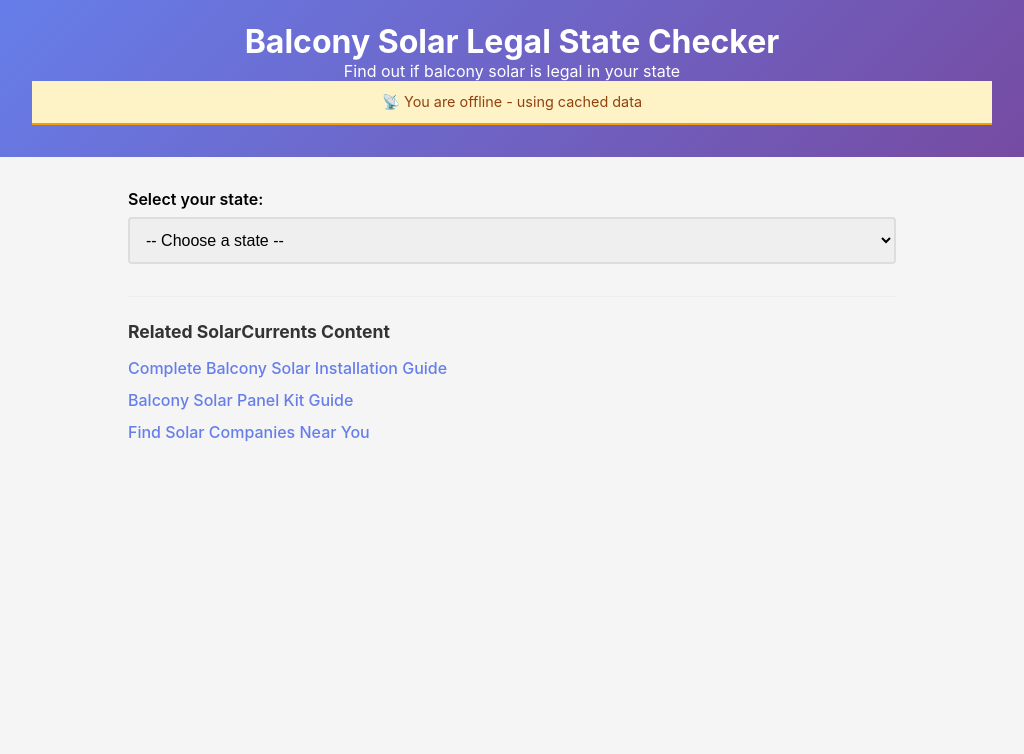
Test: App - Iframe Embedding Unit Tests › Component Rendering in Iframe › renders state results when state is selected
// Select state
Select "California" in the dropdown at (512,240), box [128, 217, 896, 264]
(page scrolled)
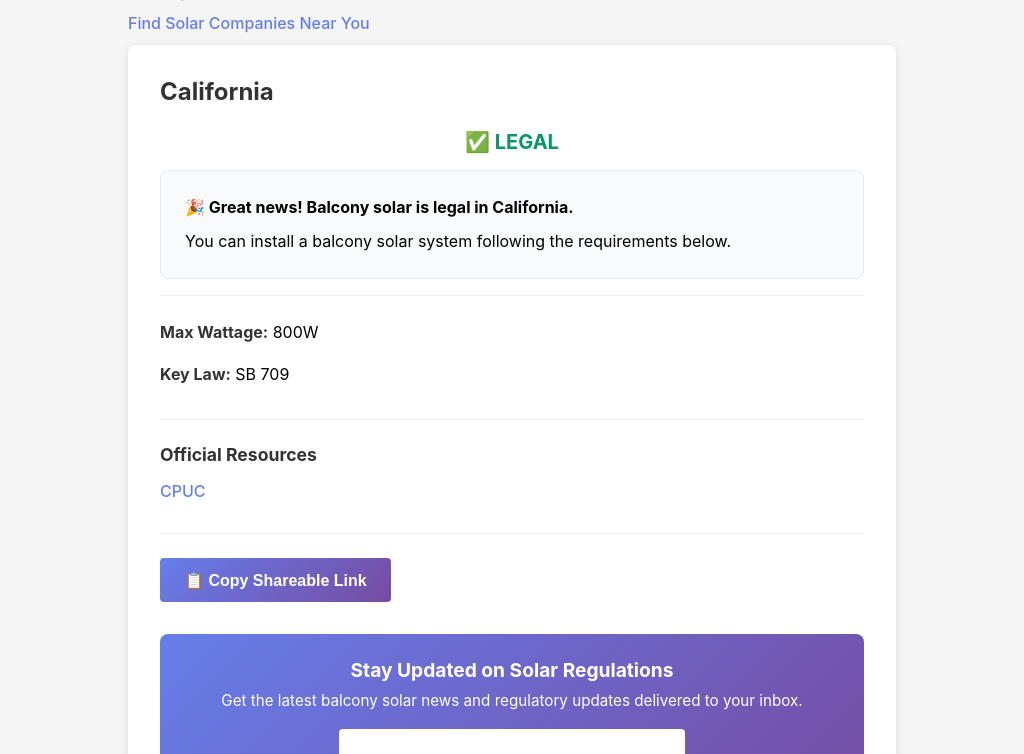
Expected: the text "✅ LEGAL" is shown, [465, 130, 559, 154]
Expected: the text "800W" is shown, [160, 322, 318, 342]
Expected: the text "SB 709" is shown, [235, 364, 289, 384]
